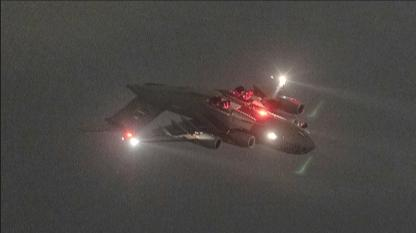C2: (76, 77, 314, 155)
